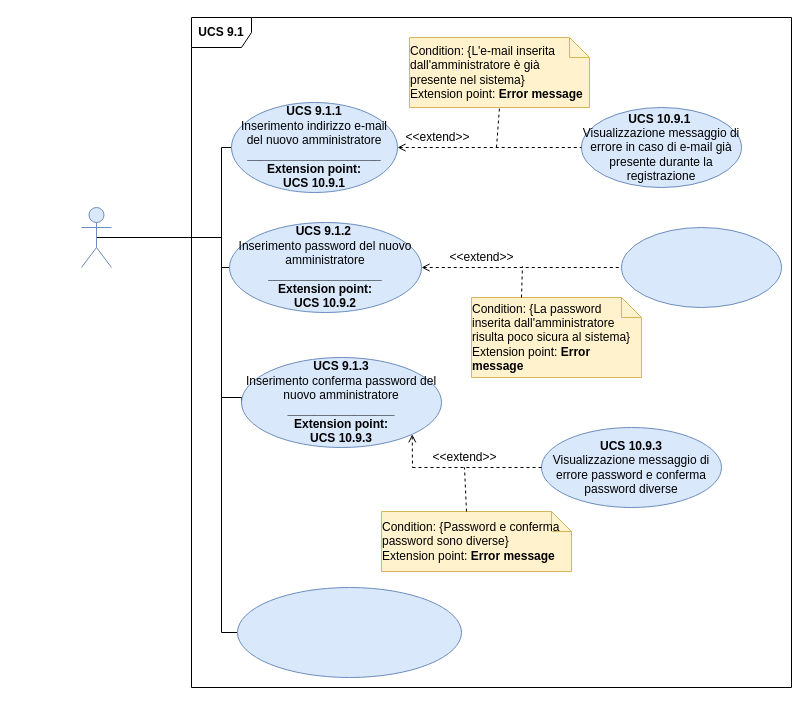
The diagram is 809 pixels wide and 705 high, and some of its shapes have lost their labels. Each missing label, with the centre of its shape:
"Amministratore proprietario" goes at point (96, 237).
"UCS 10.9.2 Visualizzazione messaggio di errore in caso di password troppo debole" goes at point (701, 267).
"UCS 9.1.4 Selezione dei privilegi del nuovo amministratore" goes at point (349, 632).
